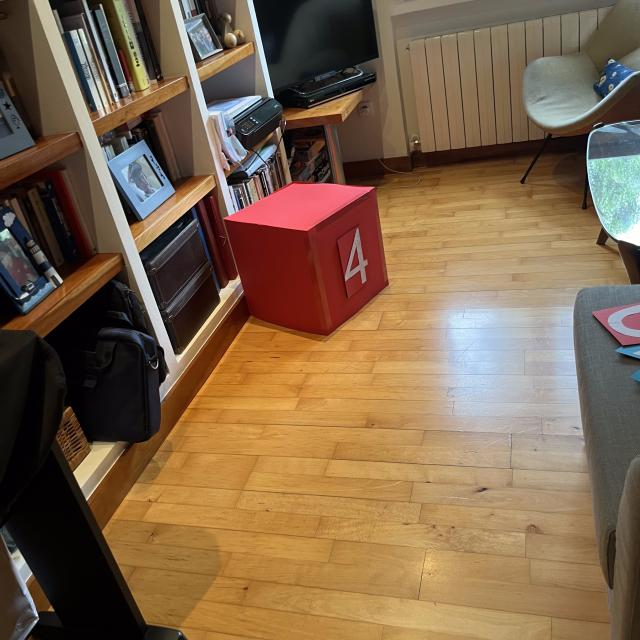box: (221, 177, 392, 338)
